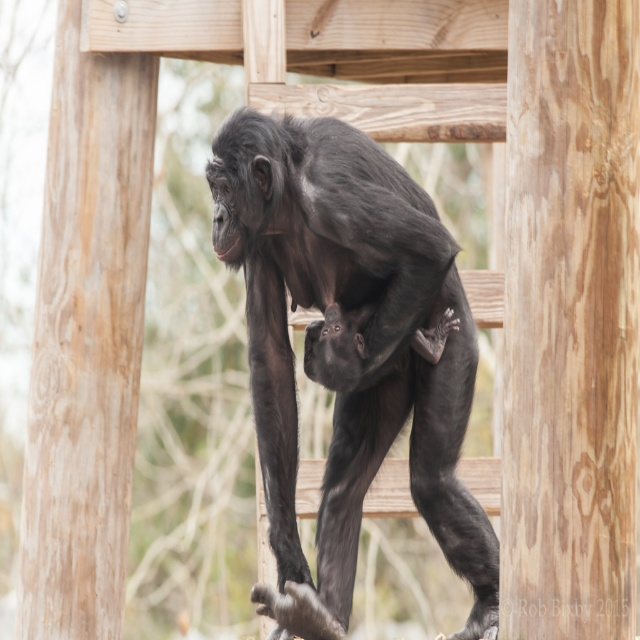Monkey: (200, 111, 506, 635)
